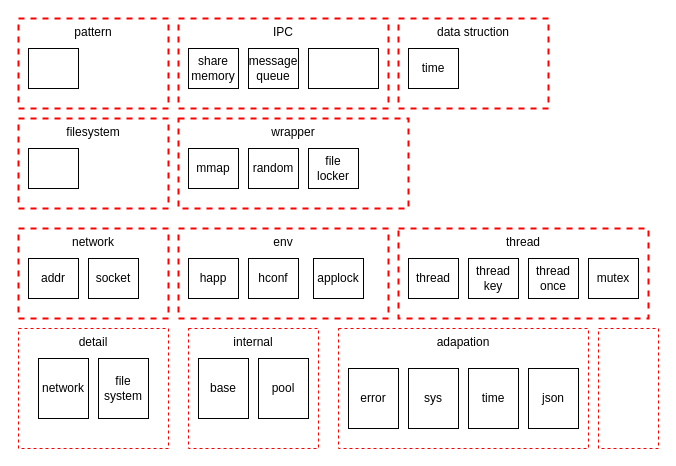
Some shapes in this 676 by 466 pixel diagram are drawn without their labels. The shapes that lost their labels are listed below. From the top down, each one's centre as x and y in pixels, then its label:
At pixel 53 68: "siggleton".
At pixel 343 68: "semophore".
At pixel 53 168: "filename".
At pixel 628 388: "utils".
